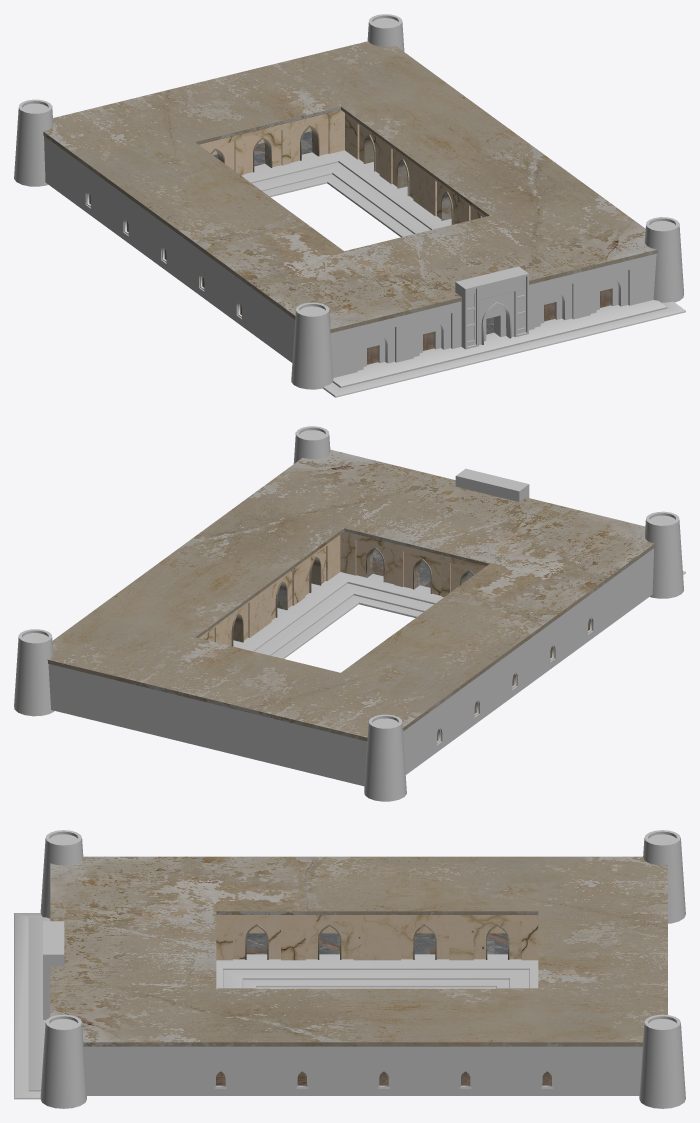
The model's file is Type3_3.fbx.
3 renders of one model, top to bottom at view 1: azimuth 30°, elevation 25°; view 2: azimuth 150°, elevation 25°; view 3: azimuth 270°, elevation 25°, orthographic. The views are drawn at different scales.
Visible parts, largest first — view 1: Cube.011, Cube.010, Plane.004, Cube.020, MAINDOORSBODY.026, Cube.012, Cube.019, Plane.006; view 2: Cube.011, Cube.010, Cube.020, Plane.004, MAINDOORSBODY.026; view 3: Cube.011, Cube.010, Plane.004, Cube.020, Plane.006, MAINDOORSBODY.026, Cube.019.
Boxes of the visible parts, x1=… form: Cube.011: x1=43, y1=41, x2=657, y2=333; Cube.010: x1=14, y1=14, x2=683, y2=389; Plane.004: x1=241, y1=150, x2=685, y2=397; Cube.020: x1=199, y1=110, x2=486, y2=224; MAINDOORSBODY.026: x1=210, y1=125, x2=481, y2=224; Cube.012: x1=467, y1=281, x2=524, y2=344; Cube.019: x1=89, y1=194, x2=611, y2=364; Plane.006: x1=213, y1=131, x2=493, y2=334; Cube.011: x1=47, y1=449, x2=654, y2=741; Cube.010: x1=14, y1=426, x2=683, y2=801; Cube.020: x1=199, y1=531, x2=485, y2=645; Plane.004: x1=233, y1=571, x2=685, y2=658; MAINDOORSBODY.026: x1=203, y1=547, x2=474, y2=646; Cube.011: x1=50, y1=856, x2=667, y2=1046; Cube.010: x1=40, y1=830, x2=685, y2=1108; Plane.004: x1=14, y1=913, x2=538, y2=1099; Cube.020: x1=216, y1=915, x2=538, y2=960; Plane.006: x1=246, y1=933, x2=507, y2=954; MAINDOORSBODY.026: x1=245, y1=924, x2=509, y2=959; Cube.019: x1=216, y1=1071, x2=551, y2=1085.
Size of the model in its own units: 6712 by 1204 by 9329.
